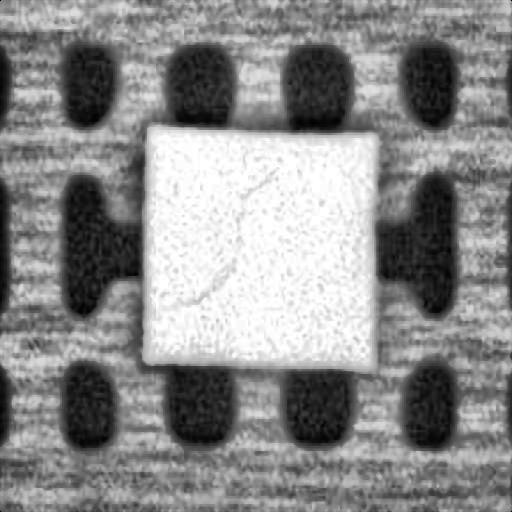DIE_CRACK: (172, 164, 273, 302)
